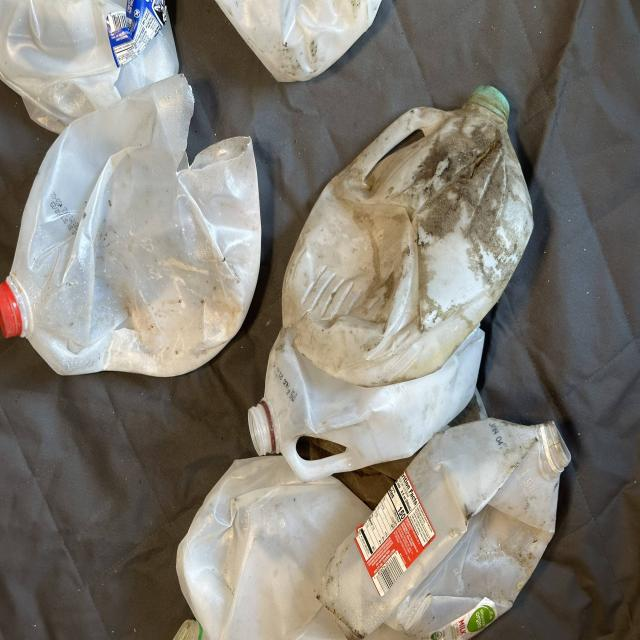milk-jug: (282, 86, 536, 382), (3, 96, 260, 376), (327, 416, 576, 640), (243, 328, 486, 486), (175, 458, 379, 640), (2, 0, 185, 128), (207, 0, 393, 83)
